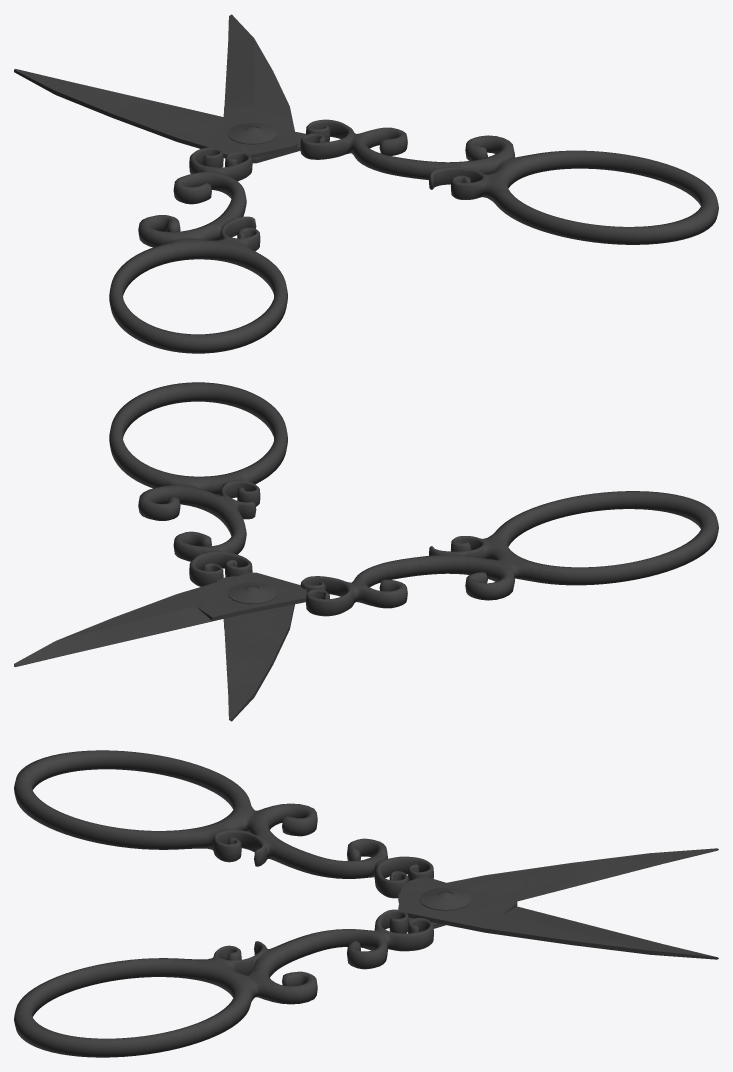
Rendered from scissors.fbx.
The picture shows the model from 3 angles, top to bottom: view 1: azimuth 30°, elevation 25°; view 2: azimuth 150°, elevation 25°; view 3: azimuth 270°, elevation 25°; orthographic projection. The views are drawn at different scales.
Visible parts, largest first — view 1: Circle.008, Plane.002, Plane.004, Circle.005; view 2: Circle.008, Plane.002, Plane.004, Circle.005; view 3: Circle.008, Plane.002, Plane.004, Circle.005.
Part boxes in pixels (box(x1,y1,x2,y2)): Circle.008: box(109, 119, 718, 353); Plane.002: box(217, 14, 297, 158); Plane.004: box(14, 69, 305, 163); Circle.005: box(227, 123, 277, 144); Circle.008: box(109, 382, 718, 616); Plane.002: box(14, 572, 307, 666); Plane.004: box(217, 576, 294, 721); Circle.005: box(227, 582, 277, 604); Circle.008: box(14, 750, 433, 1057); Plane.002: box(398, 877, 718, 959); Plane.004: box(398, 848, 718, 928); Circle.005: box(419, 888, 471, 910).
Size of the model in its own units: 377 by 12.14 by 381.
